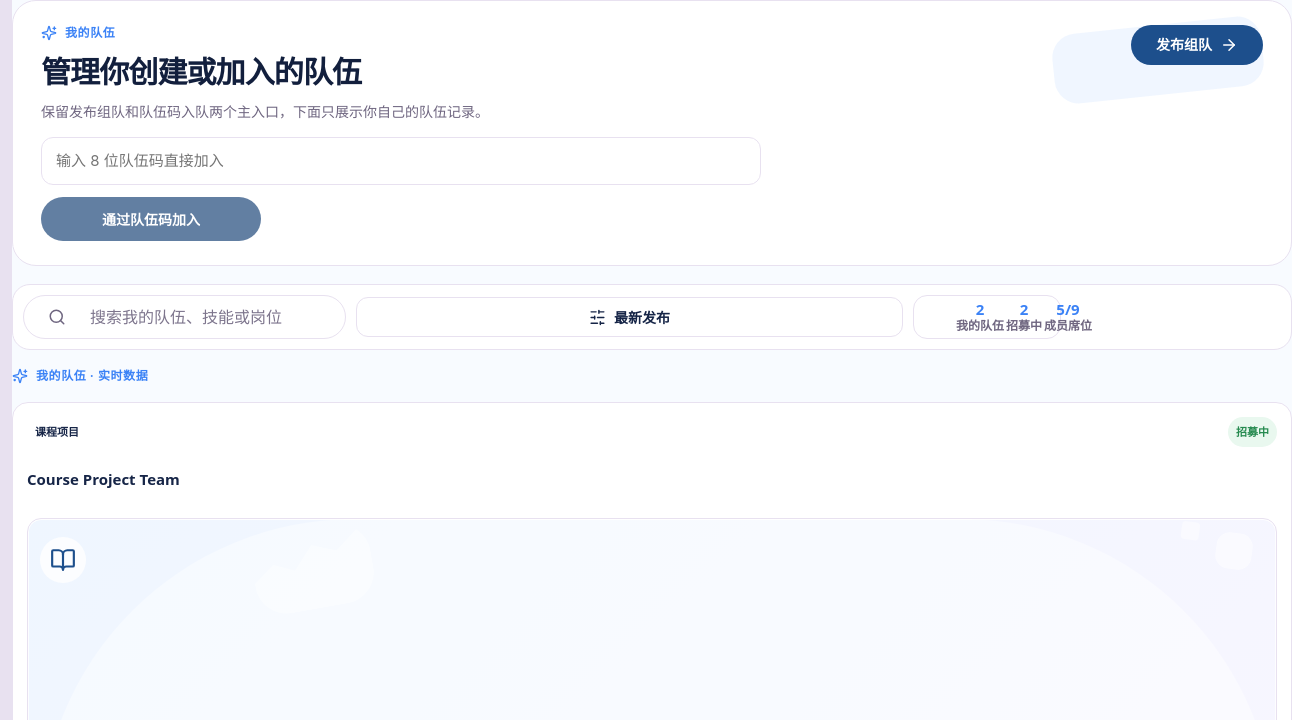
Test: TeamListPage › filters teams by the search input
This screenshot has width=1292, height=720.
Type "Contest" into the field labelled "搜索我的队伍" at (206,317), box [78,296,333,338]
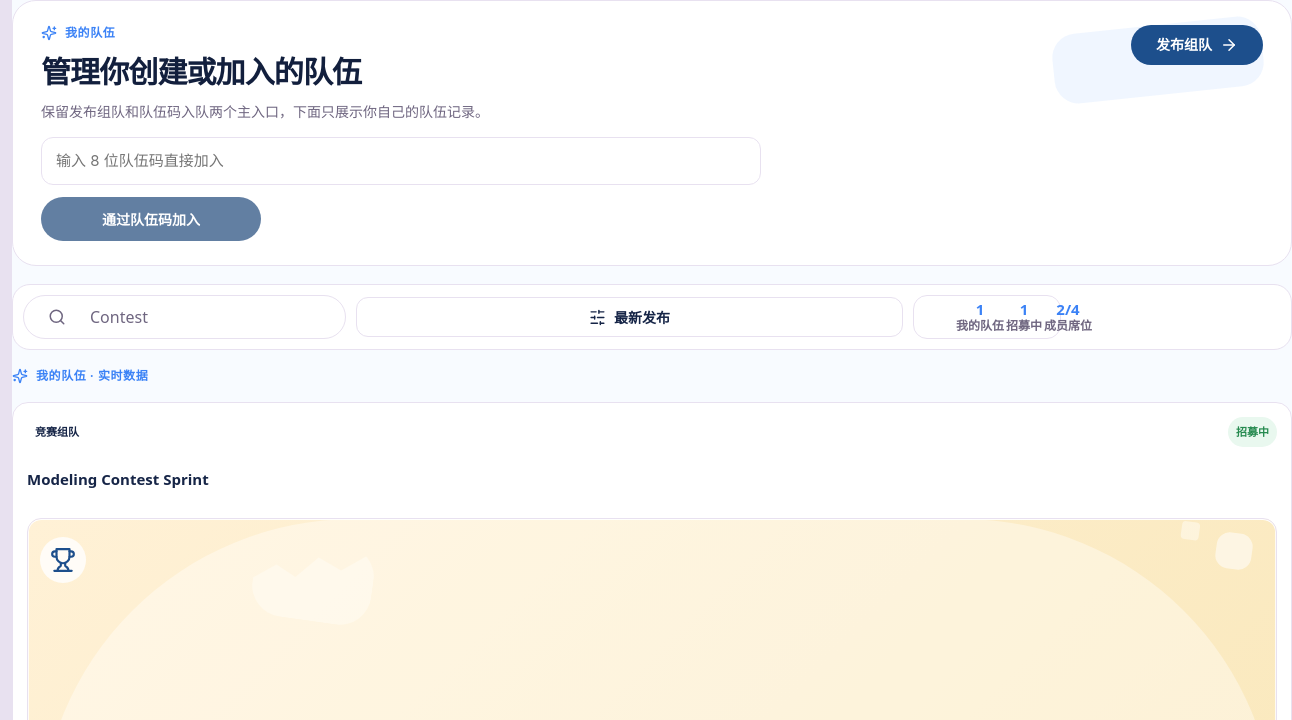
Expected: the heading "Modeling Contest Sprint" is shown, [27,469,209,489]
Expected: the link "Course Project Team" is gone
